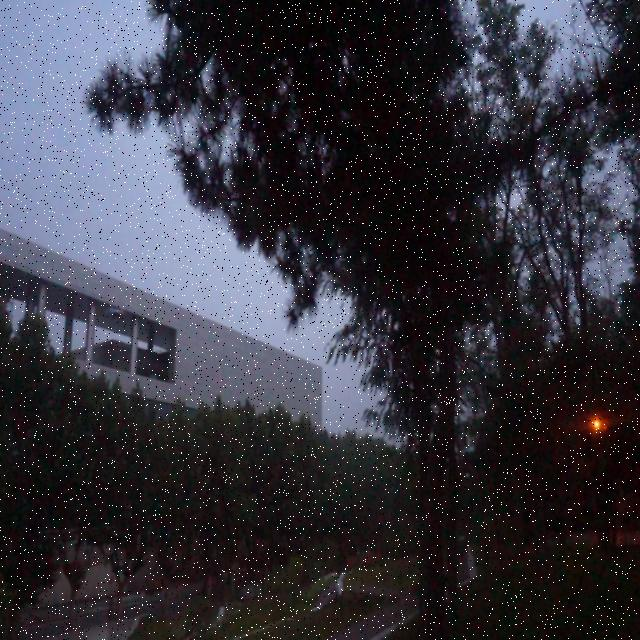UAV: (107, 307, 127, 319)
